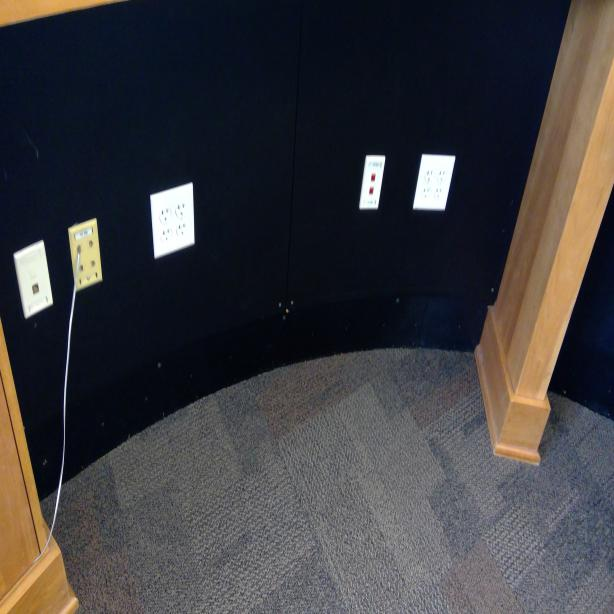typeb: (174, 197, 188, 220), (157, 204, 172, 224), (175, 222, 188, 239), (424, 165, 435, 184), (434, 185, 444, 204), (421, 185, 432, 202), (438, 167, 447, 185), (162, 227, 172, 243)
